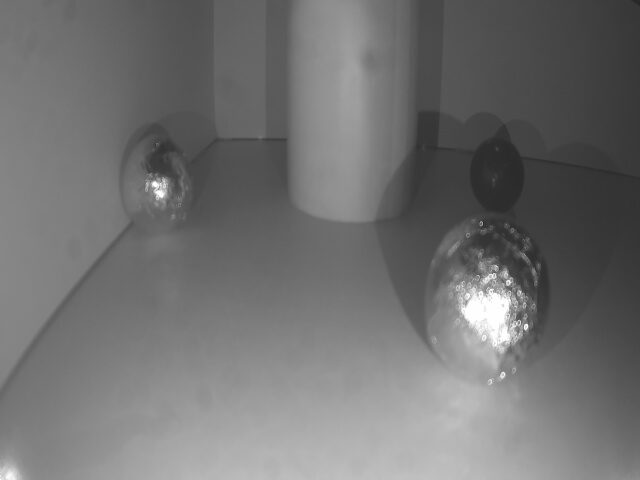Dead: (471, 137, 524, 210)
Live: (429, 210, 552, 389), (120, 137, 195, 235)
